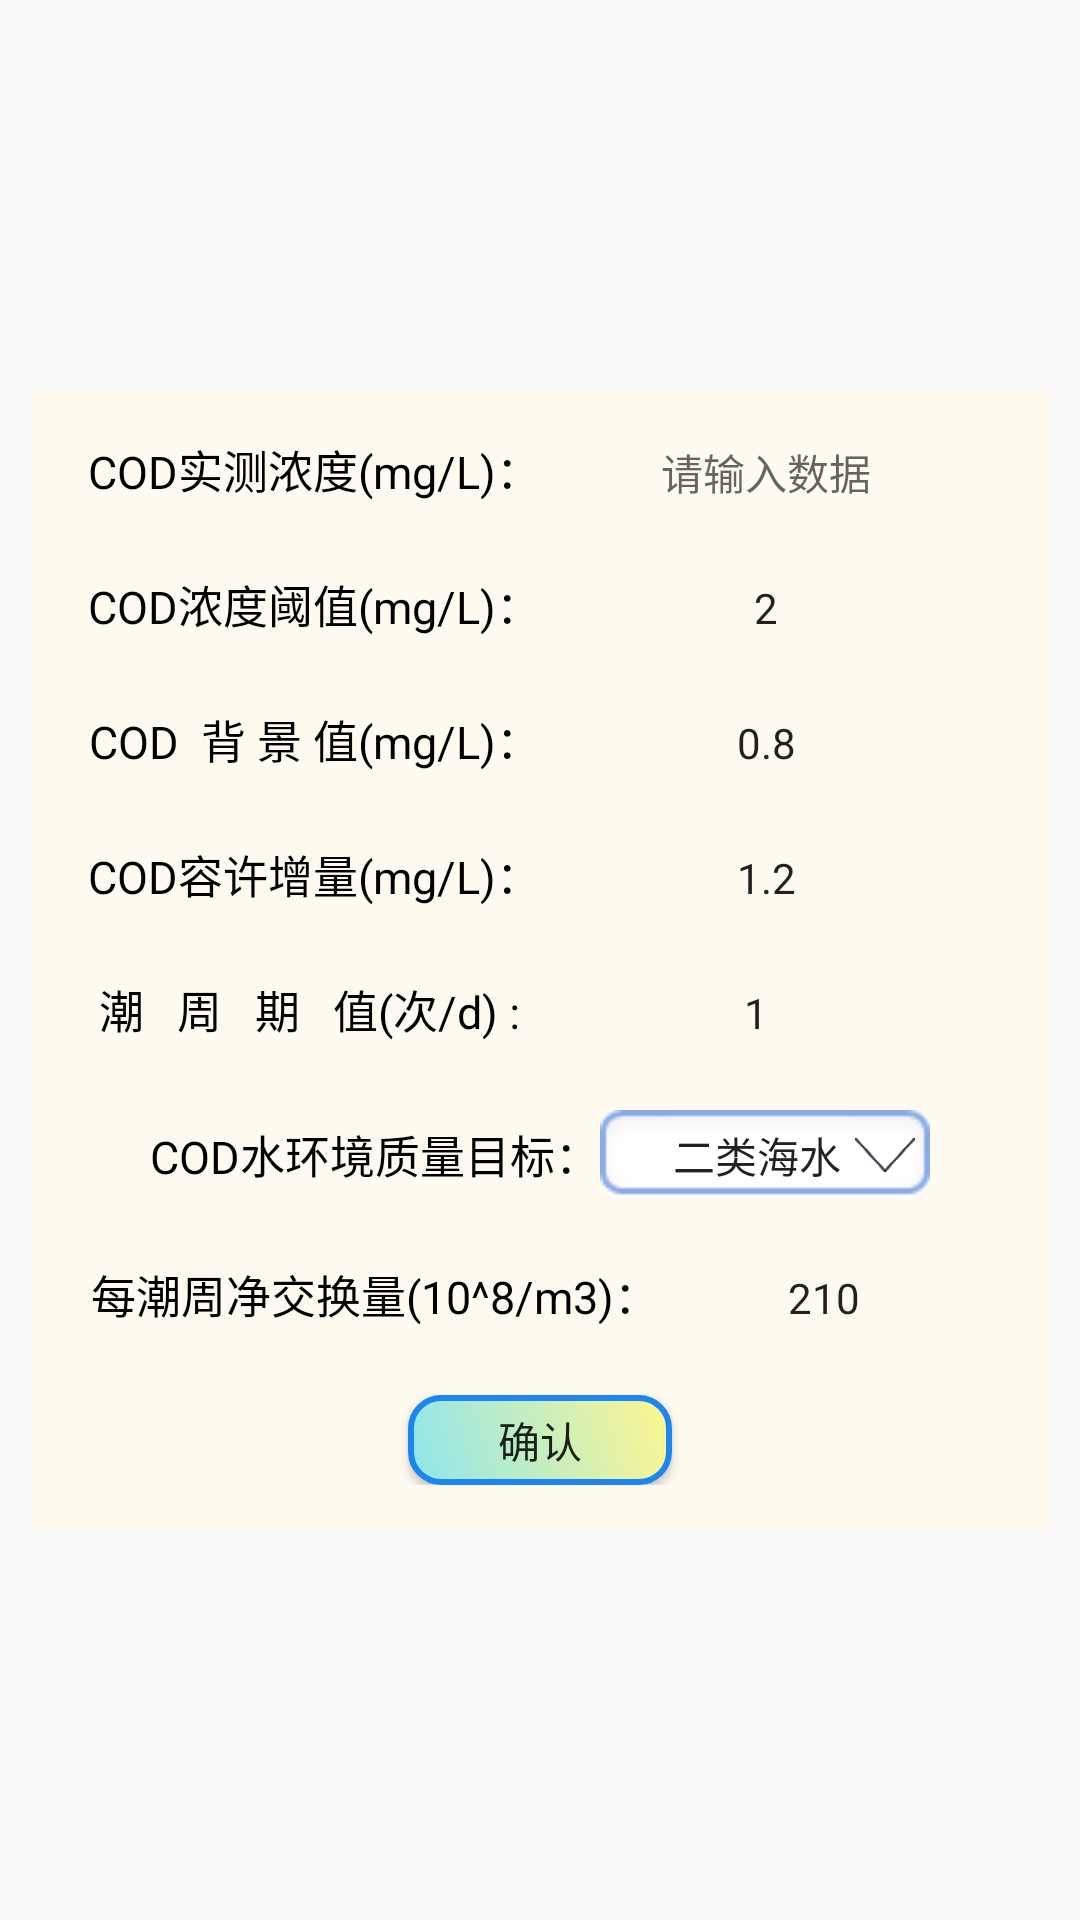

Icon click points for this 1080px×1920px phone screenshot, format (x=x, y=y):
down: (x=885, y=1155)
